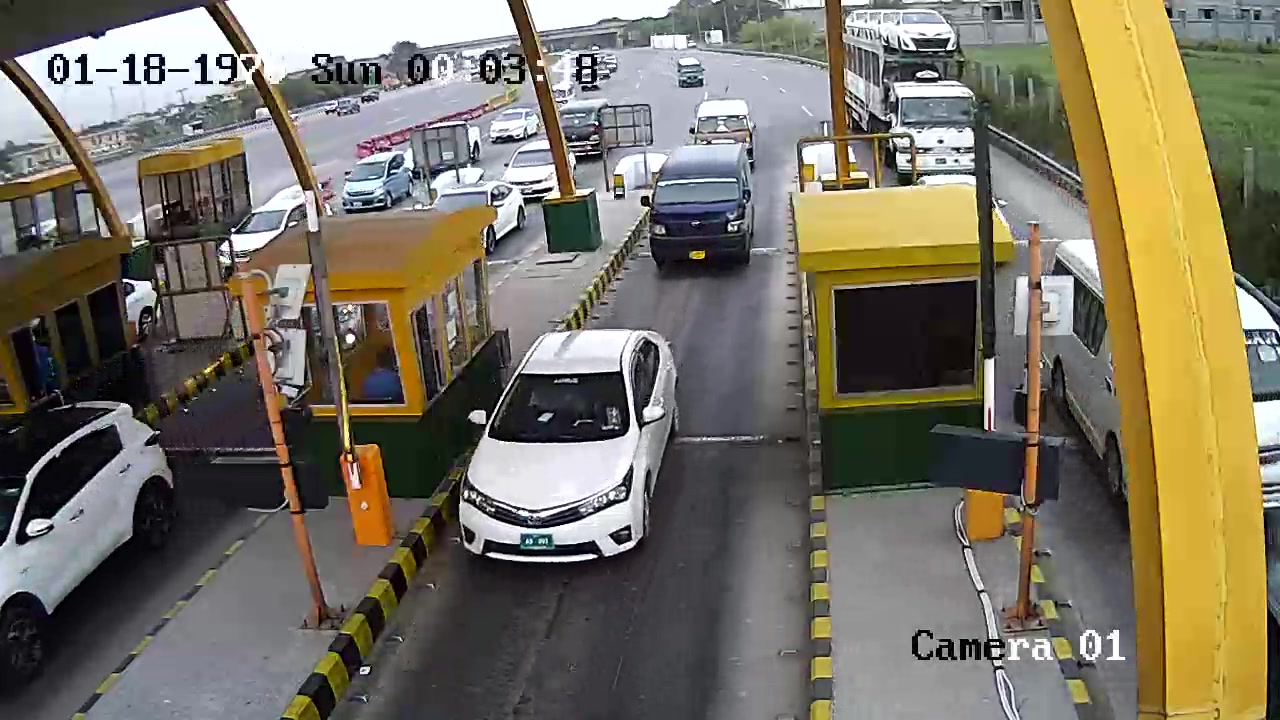F1: (450, 323, 686, 597)
